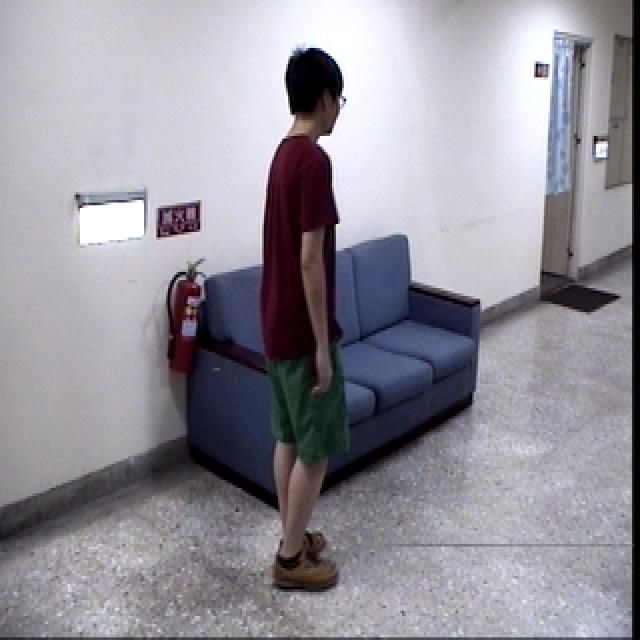stand: (251, 38, 372, 608)
